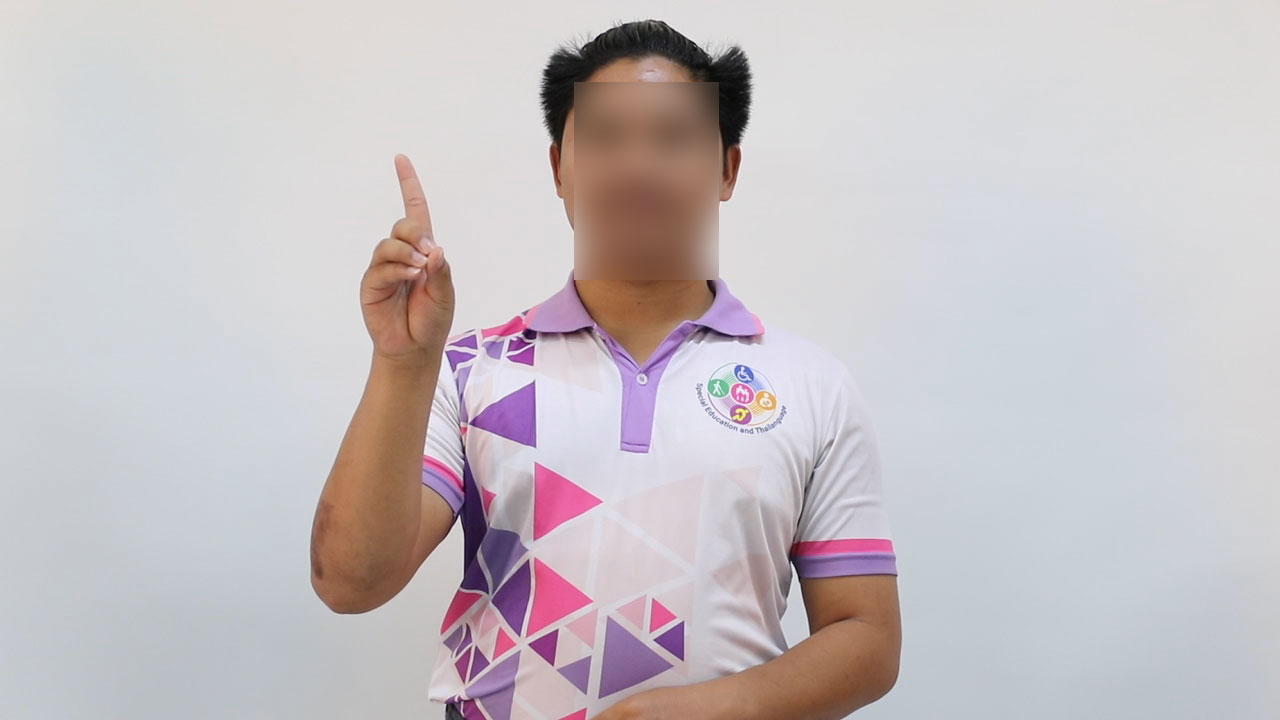dor: (338, 144, 466, 376)
